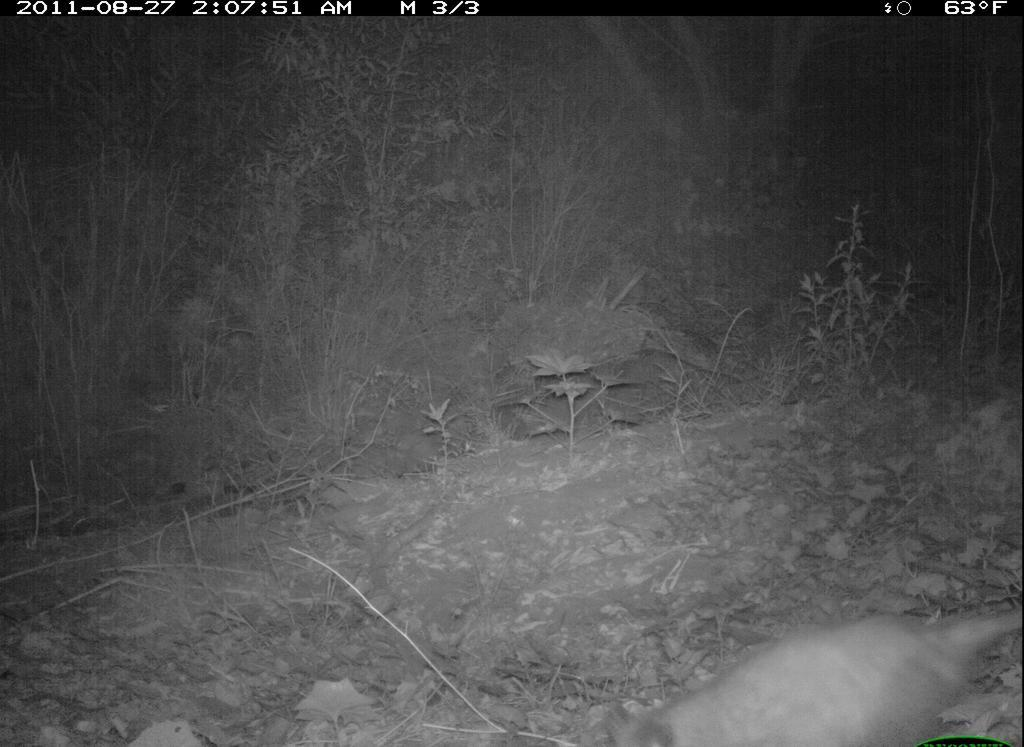opossum: (610, 565, 1023, 747)
